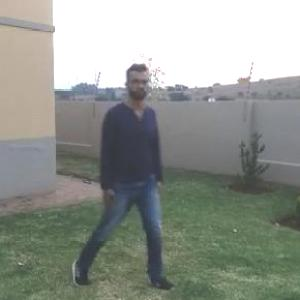follow: (96, 70, 158, 252)
